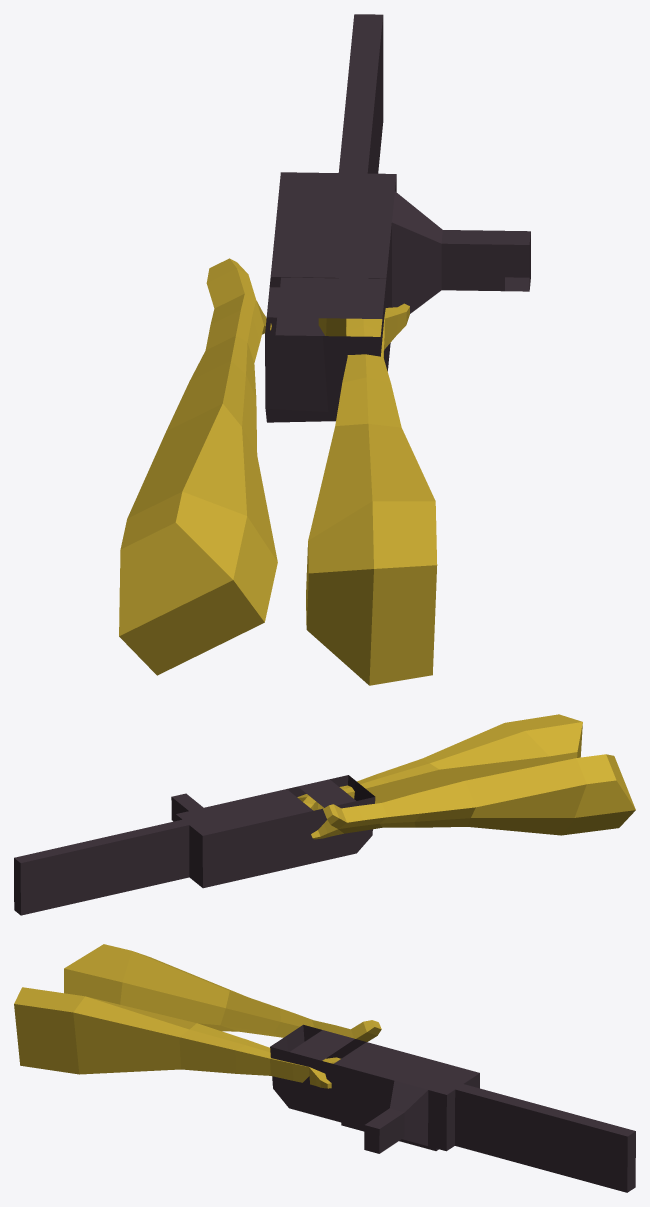
File: arme_000003.obj
The picture shows the model from 3 angles, top to bottom: view 1: azimuth 30°, elevation 25°; view 2: azimuth 150°, elevation 25°; view 3: azimuth 270°, elevation 25°; orthographic projection. The views are drawn at different scales.
Parts seen in each view (by area): view 1: Cube.048_Cube.024, Cube.046_Cube.010; view 2: Cube.048_Cube.024, Cube.046_Cube.010; view 3: Cube.048_Cube.024, Cube.046_Cube.010.
Part boxes in pixels (x1,y1,x2,y2): Cube.048_Cube.024: (119, 258, 437, 685); Cube.046_Cube.010: (265, 14, 530, 422); Cube.048_Cube.024: (297, 714, 635, 839); Cube.046_Cube.010: (14, 775, 375, 915); Cube.048_Cube.024: (14, 944, 381, 1088); Cube.046_Cube.010: (270, 1024, 635, 1192).
Size of the model in its own units: 1657 by 319 by 2206.
